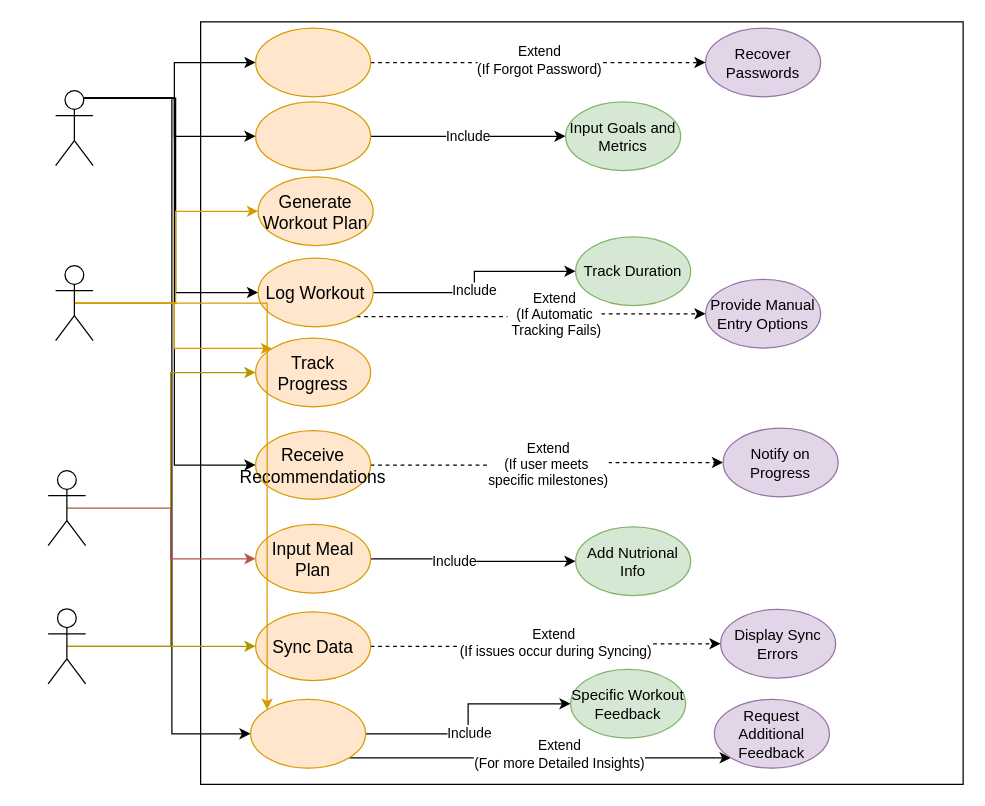
The diagram is 985 pixels wide and 806 high, and some of its shapes have lost their labels. The centre of each missing label's shape, as x and y in pixels:
"Create Fitness Profile" belongs at (x=312, y=136).
"Fitness Trainer" belongs at (x=73, y=302).
"Nutritionist" belongs at (x=66, y=507).
"Provide Feedback" belongs at (x=307, y=733).
"Smart Device" belongs at (x=66, y=646).
"User" belongs at (x=73, y=127).
"User Registration" belongs at (x=312, y=62).
